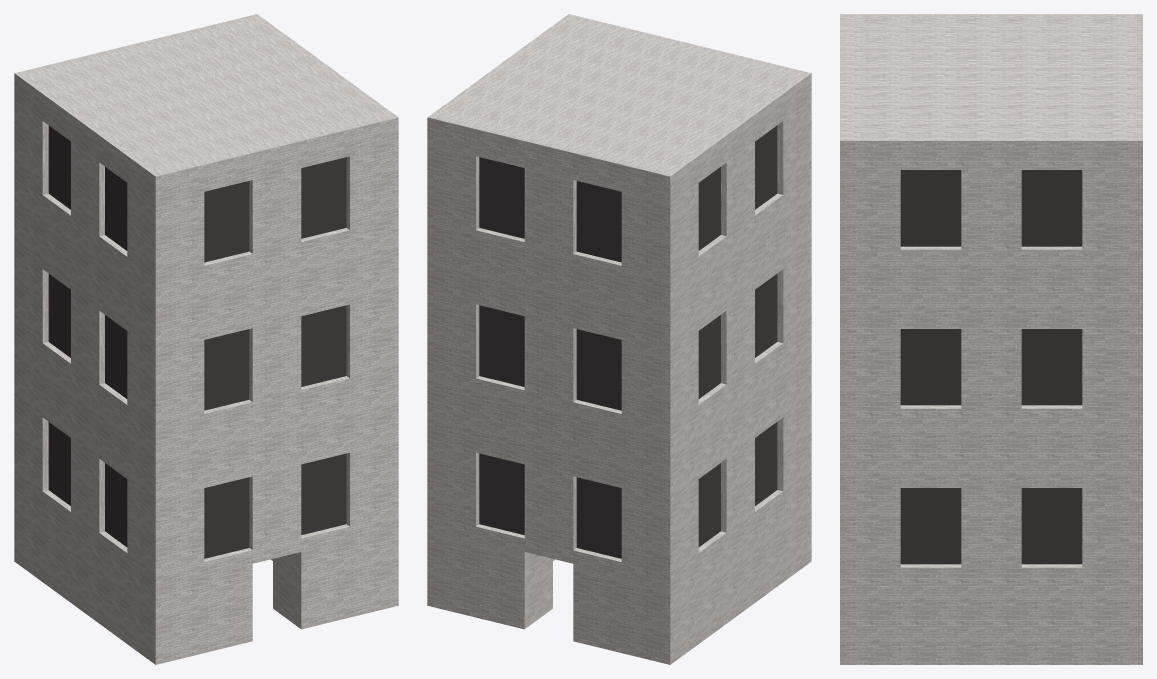
Rendered from Building_MiniPassThrough.glb.
The picture shows the model from 3 angles, left to right: view 1: azimuth 30°, elevation 25°; view 2: azimuth 150°, elevation 25°; view 3: azimuth 270°, elevation 25°; orthographic projection. The views are drawn at different scales.
Visible parts, largest first — view 1: MiniPassThrough; view 2: MiniPassThrough; view 3: MiniPassThrough.
Part boxes in pixels (left/top/right/bottom): MiniPassThrough: left=14, top=14, right=398, bottom=664; MiniPassThrough: left=427, top=14, right=811, bottom=664; MiniPassThrough: left=840, top=14, right=1142, bottom=664.
Bounding box in the file's own units: 19.6 × 37.67 × 19.74.
Materials: 3 (1 with a texture image).
